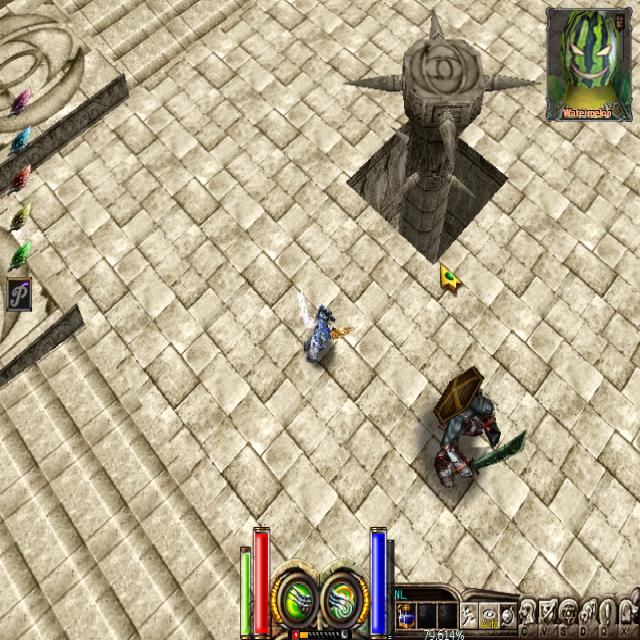monster: (439, 371, 496, 489)
